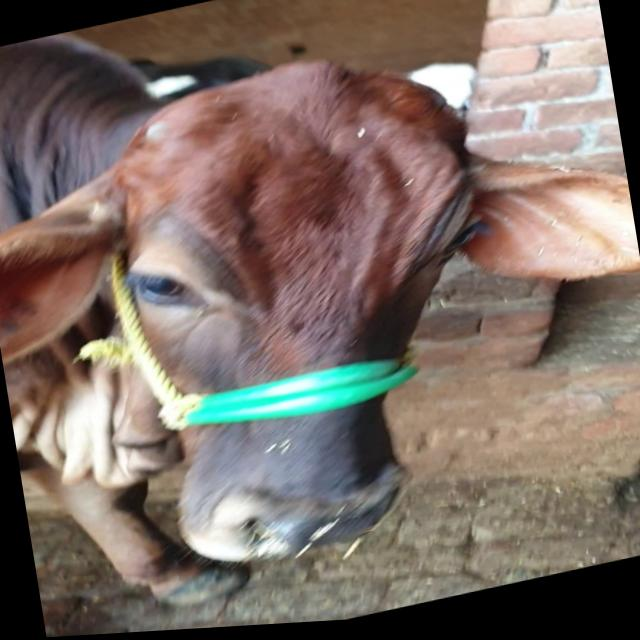cowFace: (29, 18, 570, 605)
